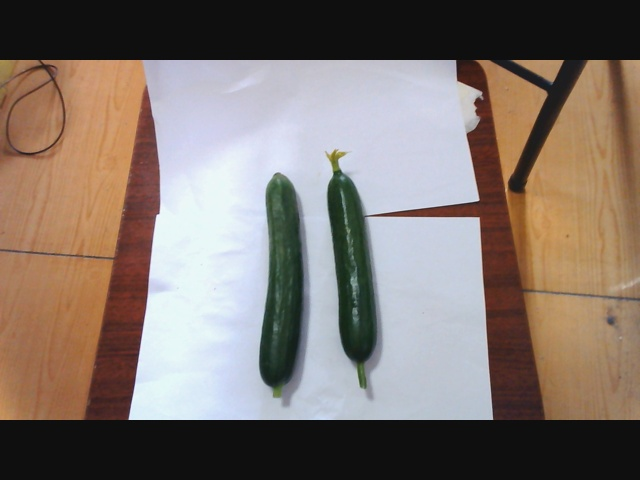cucumber: (325, 148, 375, 393), (259, 161, 303, 402)
